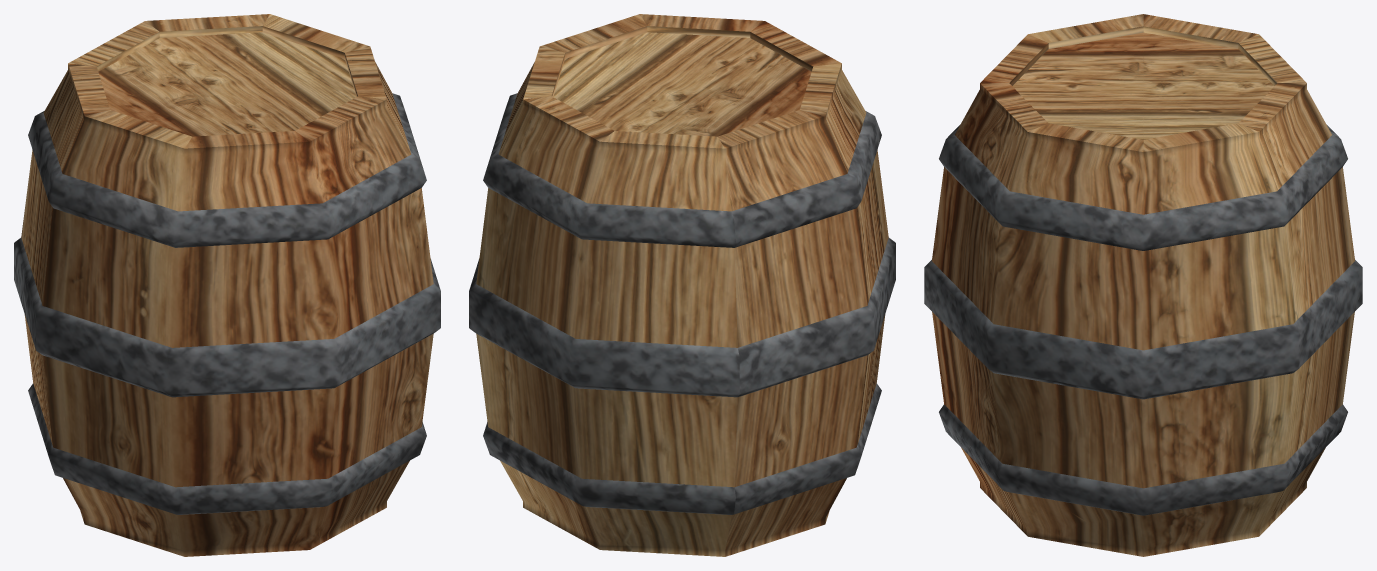
Rendered from Barrel.fbx.
3 renders of one model, left to right at view 1: azimuth 30°, elevation 25°; view 2: azimuth 150°, elevation 25°; view 3: azimuth 270°, elevation 25°, orthographic.
Parts seen in each view (by area): view 1: Barrel; view 2: Barrel; view 3: Barrel.
Part boxes in pixels (x1,y1,x2,y2): Barrel: [14, 14, 440, 556]; Barrel: [469, 14, 895, 556]; Barrel: [924, 14, 1362, 556].
Bounding box in the file's own units: 6.41 × 6.53 × 6.41.
